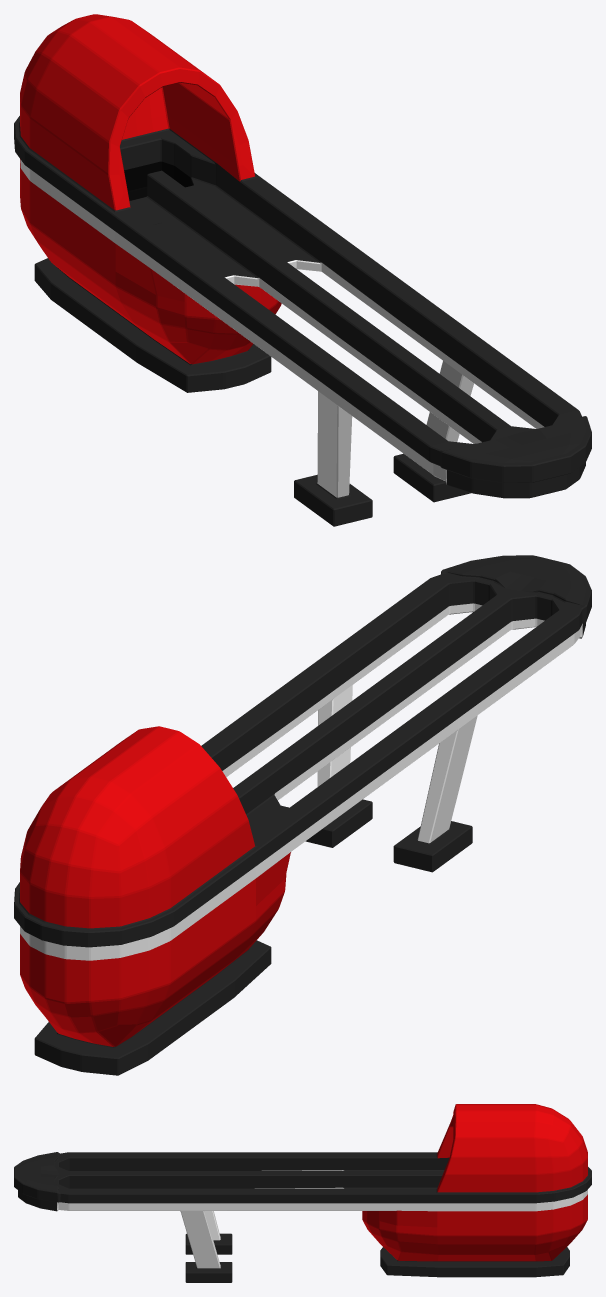
The model's file is BallDispenser.fbx.
3 renders of one model, top to bottom at view 1: azimuth 30°, elevation 25°; view 2: azimuth 150°, elevation 25°; view 3: azimuth 270°, elevation 25°, orthographic. The views are drawn at different scales.
Parts seen in each view (by area): view 1: BallDispenser; view 2: BallDispenser; view 3: BallDispenser.
Part boxes in pixels (left/top/right/bottom): BallDispenser: left=14, top=14, right=591, bottom=526; BallDispenser: left=14, top=555, right=591, bottom=1075; BallDispenser: left=14, top=1104, right=591, bottom=1282.
Bounding box in the file's own units: 0.4881 × 2.82 × 0.8369.
